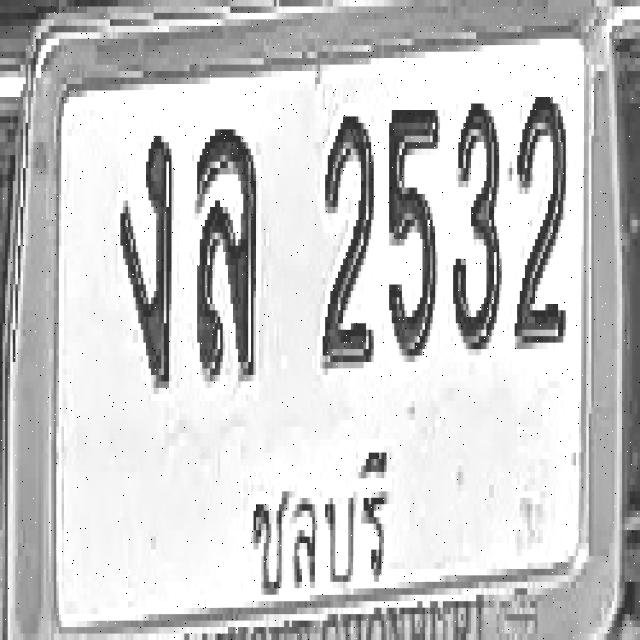16NgorNgu: (118, 130, 172, 388)
2: (514, 90, 566, 342), (322, 110, 372, 368)
3: (452, 97, 500, 349)
45LorLing: (195, 126, 258, 378)
5: (388, 106, 439, 358)
Chonburi: (242, 437, 394, 583)
